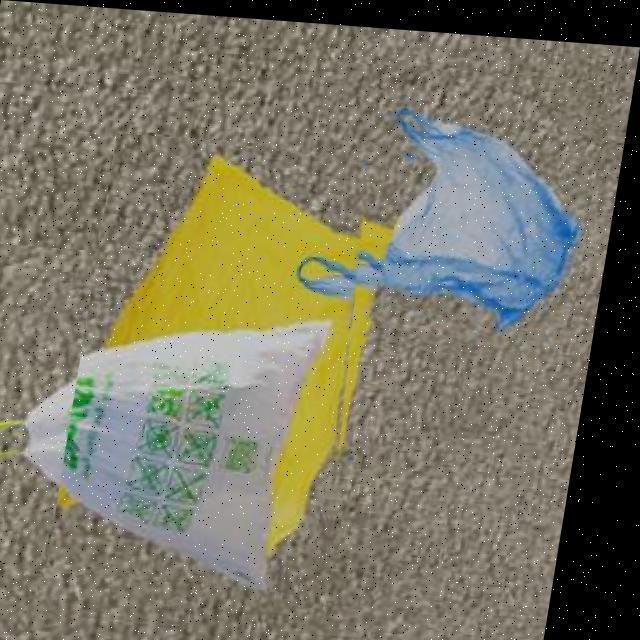plasticcover: (63, 131, 399, 588), (0, 243, 376, 634), (289, 55, 611, 356)
